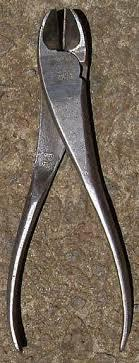pliers: (6, 5, 133, 352)
